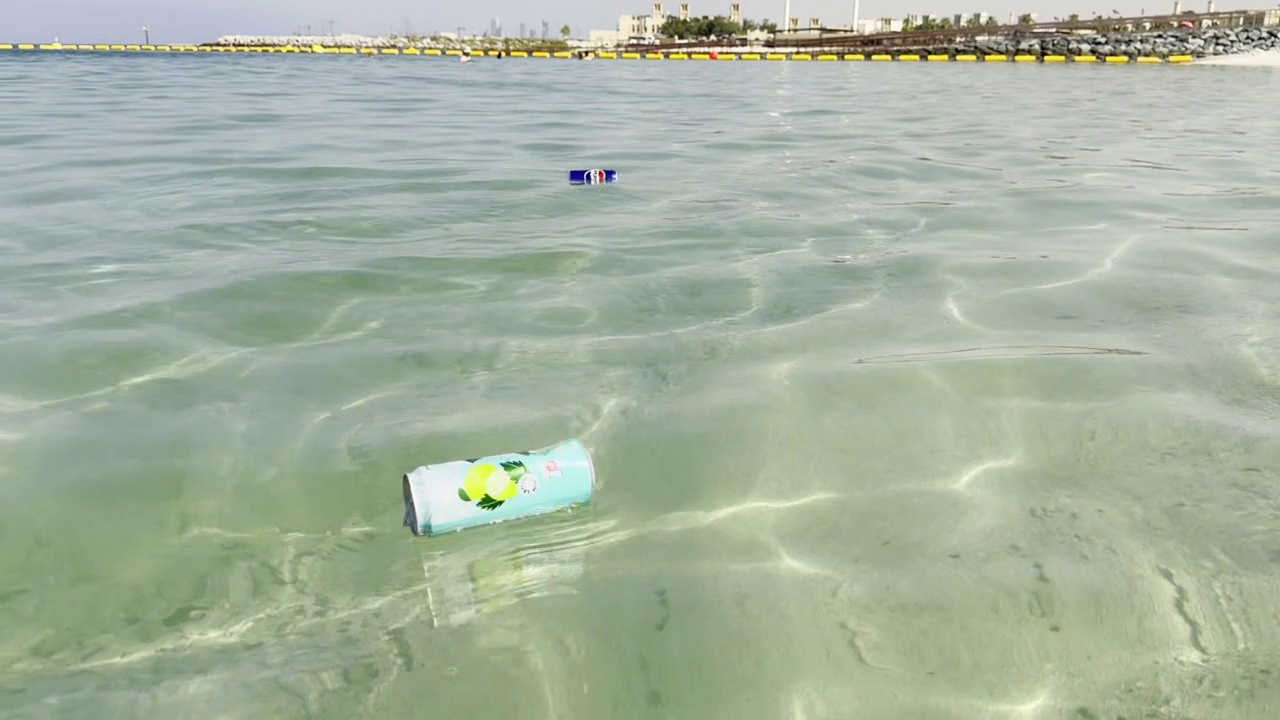debris: (394, 422, 603, 547), (566, 164, 620, 189)
